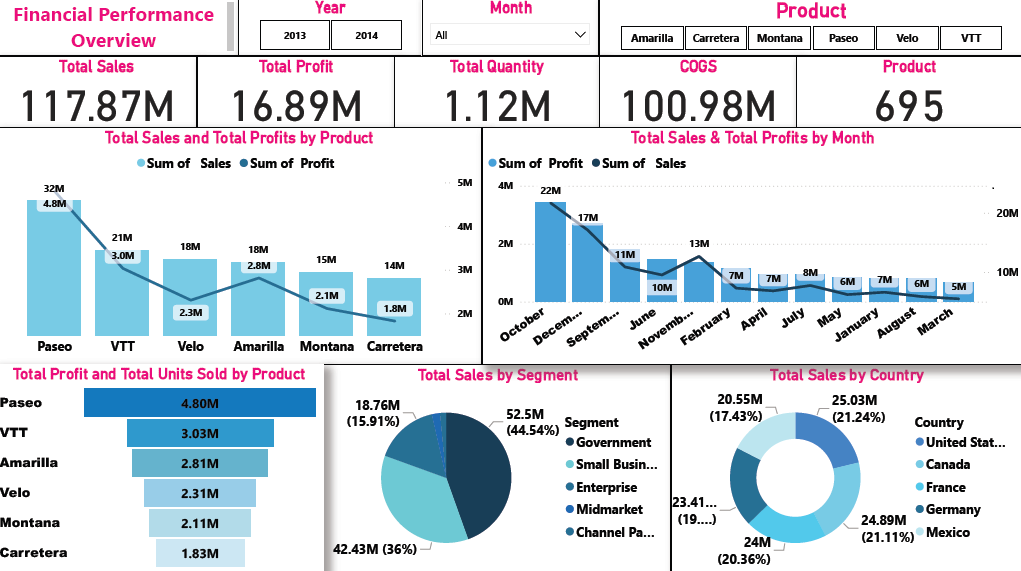

This screenshot's page, from the dashboard's own definition file:
{"tool":"powerbi","page":{"name":"Page 1","canvas":[1280,720],"ordinal":0},"visuals":[{"type":"textbox","box":[0,0,302.9,74.3],"z":0},{"type":"slicer","title":"Year","fields":{"Values":["financial performance dasboard.Year"]},"box":[302.9,0,228.6,74.3],"z":1000},{"type":"slicer","title":"Month","fields":{"Values":["financial performance dasboard. Month Name "]},"box":[531.4,0,221.4,74.3],"z":2000},{"type":"slicer","title":"Product","fields":{"Values":["financial performance dasboard. Product "]},"box":[752.5,0,527.5,73.9],"z":3000},{"type":"card","title":"Total Sales","fields":{"Values":["Sum(financial performance dasboard.  Sales )"]},"box":[0,74.3,251.4,88.6],"z":4000},{"type":"card","title":"Total Profit","fields":{"Values":["Sum(financial performance dasboard. Profit )"]},"box":[251.4,74.3,245.7,88.6],"z":5000},{"type":"card","title":"Total Quantity","fields":{"Values":["Sum(financial performance dasboard. Units Sold )"]},"box":[497.1,74.3,255.7,88.6],"z":6000},{"type":"card","title":"COGS","fields":{"Values":["Sum(financial performance dasboard. COGS )"]},"box":[752.9,74.3,245.7,88.6],"z":7000},{"type":"card","title":"Product","fields":{"Values":["CountNonNull(financial performance dasboard. Product )"]},"box":[998.6,74.3,281.4,88.6],"z":8000},{"type":"lineClusteredColumnComboChart","title":"Total Sales and Total Profits by Product ","fields":{"Category":["financial performance dasboard. Product "],"Y":["Sum(financial performance dasboard.  Sales )"],"Y2":["Sum(financial performance dasboard. Profit )"]},"box":[0,162.9,607.1,295.7],"z":9000},{"type":"pieChart","title":"Total Sales  by Segment","fields":{"Y":["Sum(financial performance dasboard.  Sales )"],"Category":["financial performance dasboard.Segment"]},"box":[408.6,458.6,434.3,261.4],"z":10000},{"type":"donutChart","title":"Total  Sales  by Country","fields":{"Category":["financial performance dasboard.Country"],"Y":["Sum(financial performance dasboard.  Sales )"]},"box":[842.9,458.6,437.1,261.4],"z":11000},{"type":"funnel","title":"Total Profit  and Total Units Sold  by  Product ","fields":{"Category":["financial performance dasboard. Product "],"Y":["Sum(financial performance dasboard. Profit )"]},"box":[0,458.6,408.6,261.4],"z":12000},{"type":"lineStackedColumnComboChart","title":"Total Sales & Total Profits  by  Month","fields":{"Category":["financial performance dasboard. Month Name "],"Y2":["Sum(financial performance dasboard.  Sales )"],"Y":["Sum(financial performance dasboard. Profit )"]},"box":[607.1,162.9,672.9,295.7],"z":13000}]}

Visuals, with their boxes in screenshot pixels (x1, y1, x2, y2), scaled from the page's 1280x720 canvas onto the 1021x571 screenshot:
textbox: select_region(0, 0, 242, 59)
"Year" slicer: select_region(242, 0, 424, 59)
"Month" slicer: select_region(424, 0, 600, 59)
"Product" slicer: select_region(600, 0, 1020, 59)
"Total Sales" card: select_region(0, 59, 201, 129)
"Total Profit" card: select_region(201, 59, 397, 129)
"Total Quantity" card: select_region(397, 59, 600, 129)
"COGS" card: select_region(601, 59, 797, 129)
"Product" card: select_region(797, 59, 1020, 129)
"Total Sales and Total Profits by Product " lineClusteredColumnComboChart: select_region(0, 129, 484, 364)
"Total Sales  by Segment" pieChart: select_region(326, 364, 672, 570)
"Total  Sales  by Country" donutChart: select_region(672, 364, 1020, 570)
"Total Profit  and Total Units Sold  by  Product " funnel: select_region(0, 364, 326, 570)
"Total Sales & Total Profits  by  Month" lineStackedColumnComboChart: select_region(484, 129, 1020, 364)
